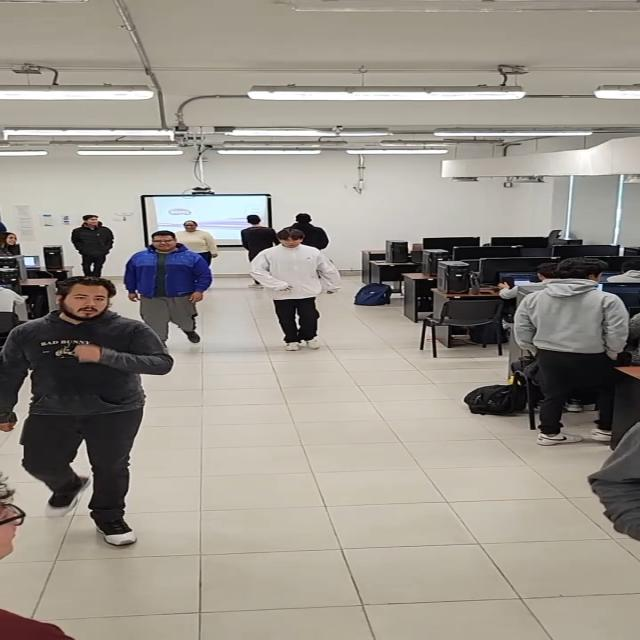Persona: (1, 276, 175, 547), (248, 230, 342, 352), (124, 230, 214, 350), (71, 214, 115, 281), (168, 220, 223, 259), (282, 212, 330, 252), (239, 215, 281, 258)
